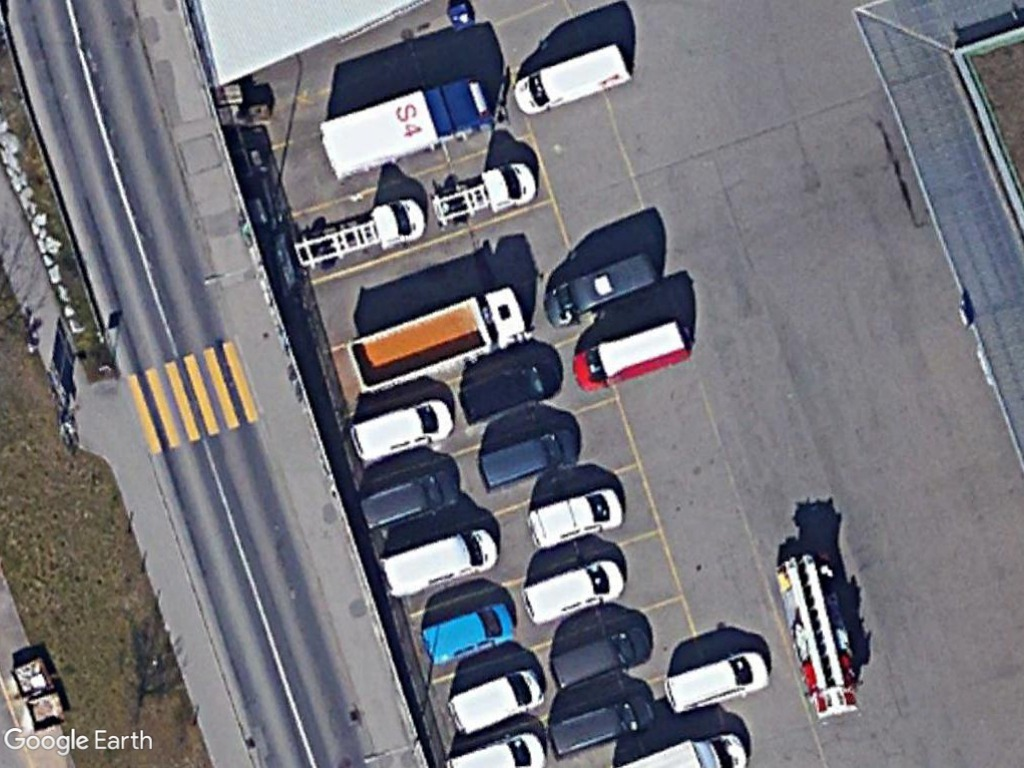others: (343, 280, 535, 397)
truck: (317, 71, 492, 176)
van: (508, 42, 634, 118), (542, 252, 665, 328), (375, 524, 500, 597), (572, 319, 694, 392), (547, 687, 658, 765), (441, 664, 550, 738), (659, 647, 774, 716), (517, 556, 630, 626), (545, 621, 654, 693), (349, 393, 455, 464), (476, 423, 583, 492), (523, 484, 630, 552), (420, 598, 515, 664)
